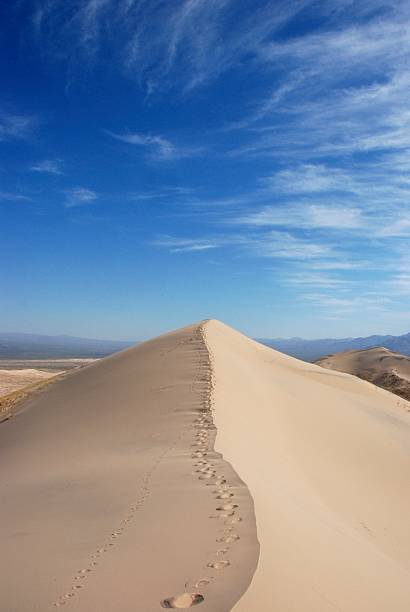human_foot_print: (53, 441, 175, 606), (191, 355, 240, 569), (191, 358, 237, 569), (154, 536, 242, 608), (54, 527, 122, 606), (191, 355, 216, 481), (213, 476, 242, 544), (211, 503, 241, 555), (91, 519, 127, 560), (53, 568, 90, 606), (207, 527, 239, 568), (191, 417, 210, 474), (216, 526, 239, 556), (161, 592, 204, 608), (161, 591, 203, 607), (53, 583, 82, 606), (160, 338, 191, 357), (216, 527, 239, 550), (211, 499, 237, 519), (184, 575, 214, 591), (197, 447, 215, 473), (213, 490, 237, 509), (199, 397, 213, 426), (212, 482, 234, 500), (197, 397, 212, 423), (214, 494, 237, 510), (191, 379, 209, 398), (198, 397, 211, 423), (216, 507, 235, 524), (54, 590, 74, 606), (195, 379, 211, 399), (212, 483, 234, 497), (195, 415, 213, 432), (194, 413, 214, 428), (194, 378, 210, 396), (215, 475, 233, 491), (213, 483, 234, 496), (205, 465, 217, 486), (199, 420, 215, 435), (196, 423, 211, 439), (193, 466, 214, 477), (193, 419, 210, 432), (193, 577, 213, 588), (193, 463, 213, 474), (209, 463, 218, 487), (210, 511, 234, 520), (196, 462, 215, 473), (216, 534, 239, 543), (192, 440, 209, 452), (150, 384, 175, 392), (207, 560, 229, 569), (192, 438, 208, 450), (194, 407, 206, 423), (196, 472, 213, 483), (54, 593, 68, 606), (194, 423, 208, 436), (222, 520, 234, 535), (215, 489, 233, 499), (195, 421, 207, 435), (216, 503, 237, 511), (202, 416, 214, 429), (201, 461, 215, 472), (223, 520, 234, 533), (198, 387, 209, 400), (196, 465, 213, 473), (193, 443, 208, 452), (193, 460, 212, 467), (215, 474, 226, 486), (111, 527, 123, 538), (202, 451, 212, 464), (226, 516, 242, 524), (194, 436, 208, 445), (193, 445, 208, 453), (216, 547, 229, 556), (91, 550, 100, 563), (105, 521, 114, 534), (194, 432, 208, 440), (193, 439, 207, 447), (209, 514, 227, 520), (198, 472, 213, 479), (192, 452, 207, 459), (195, 430, 208, 438), (194, 437, 207, 445), (112, 527, 123, 536), (195, 431, 208, 438), (195, 445, 208, 452), (194, 436, 207, 443), (191, 451, 206, 457), (194, 459, 209, 465), (215, 477, 225, 485), (195, 433, 208, 439), (196, 429, 207, 436), (78, 568, 90, 574), (193, 417, 202, 425), (74, 574, 85, 580), (199, 375, 208, 382), (197, 429, 207, 435), (192, 441, 204, 446), (66, 591, 74, 598), (124, 516, 131, 524), (207, 481, 217, 486), (73, 584, 81, 590), (90, 560, 97, 566), (193, 448, 203, 452), (107, 541, 113, 546), (194, 424, 201, 427)
